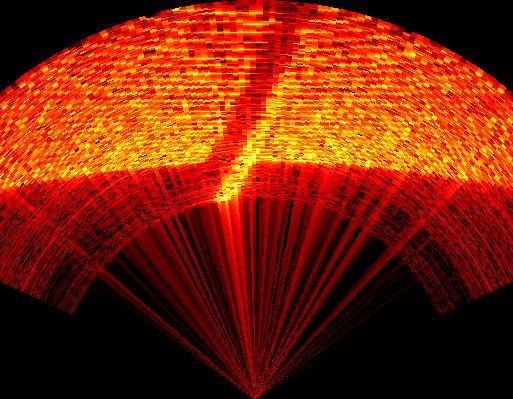pipe: (190, 0, 319, 202)
